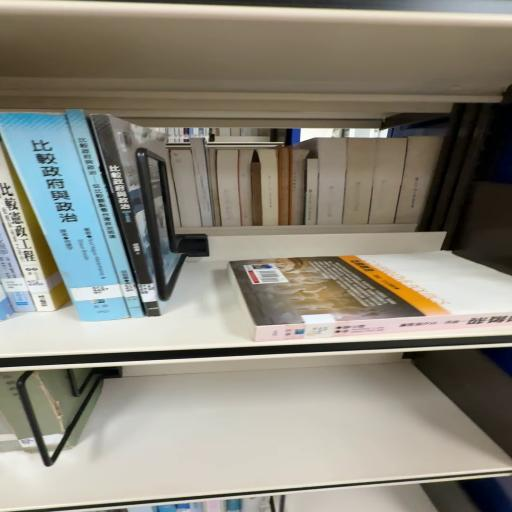flat: (228, 251, 512, 342)
